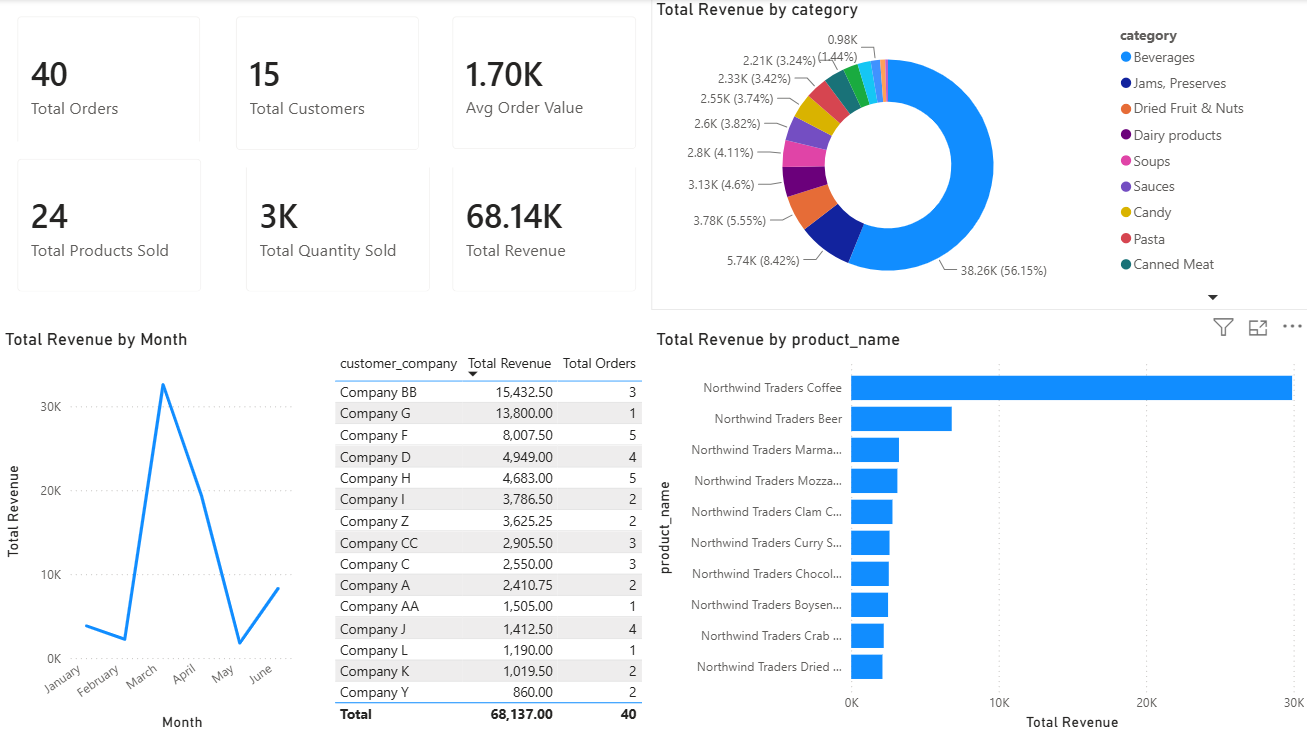

What the dashboard file says about the page in this screenshot:
{"tool":"powerbi","page":{"name":"Page 1","canvas":[1280,720],"ordinal":0},"visuals":[{"type":"cardVisual","fields":{"Data":["sqlproject.Total Revenue"]},"box":[425.4,140,214.1,164.7],"z":0},{"type":"cardVisual","fields":{"Data":["sqlproject.Total Quantity Sold"]},"box":[223.7,140,214.1,164.7],"z":1},{"type":"cardVisual","fields":{"Data":["sqlproject.Total Orders"]},"box":[0,0,214,165.1],"z":2},{"type":"cardVisual","fields":{"Data":["sqlproject.Total Customers"]},"box":[214,0,214,165.1],"z":3},{"type":"cardVisual","fields":{"Data":["sqlproject.Total Products Sold"]},"box":[0,140,214.1,164.7],"z":4},{"type":"cardVisual","fields":{"Data":["sqlproject.Avg Order Value"]},"box":[425.4,0,214.1,164.7],"z":5},{"type":"clusteredBarChart","fields":{"Category":["sqlproject.product_name"],"Y":["sqlproject.Total Revenue"]},"box":[636.7,322.5,643.6,397.9],"z":6},{"type":"donutChart","fields":{"Category":["sqlproject.category"],"Y":["sqlproject.Total Revenue"]},"box":[636.7,0,643.6,304.6],"z":7},{"type":"lineChart","fields":{"Category":["sqlproject.order_date.Variation.Date Hierarchy.Month"],"Y":["sqlproject.Total Revenue"]},"box":[0,322.5,292.3,397.9],"z":8},{"type":"tableEx","fields":{"Values":["sqlproject.customer_company","sqlproject.Total Revenue","sqlproject.Total Orders"]},"box":[321.1,340.3,315.6,380.1],"z":9}]}

Visuals, with their boxes in screenshot pixels (x1, y1, x2, y2), scaled from the page's 1280x720 canvas onto the 1307x733 screenshot:
cardVisual - sqlproject.Total Revenue: (left=434, top=143, right=653, bottom=310)
cardVisual - sqlproject.Total Quantity Sold: (left=228, top=143, right=447, bottom=310)
cardVisual - sqlproject.Total Orders: (left=0, top=0, right=219, bottom=168)
cardVisual - sqlproject.Total Customers: (left=219, top=0, right=437, bottom=168)
cardVisual - sqlproject.Total Products Sold: (left=0, top=143, right=219, bottom=310)
cardVisual - sqlproject.Avg Order Value: (left=434, top=0, right=653, bottom=168)
clusteredBarChart - sqlproject.product_name x sqlproject.Total Revenue: (left=650, top=328, right=1306, bottom=732)
donutChart - sqlproject.category x sqlproject.Total Revenue: (left=650, top=0, right=1306, bottom=310)
lineChart - sqlproject.order_date.Variation.Date Hierarchy.Month x sqlproject.Total Revenue: (left=0, top=328, right=298, bottom=732)
tableEx - sqlproject.customer_company x sqlproject.Total Revenue: (left=328, top=346, right=650, bottom=732)
